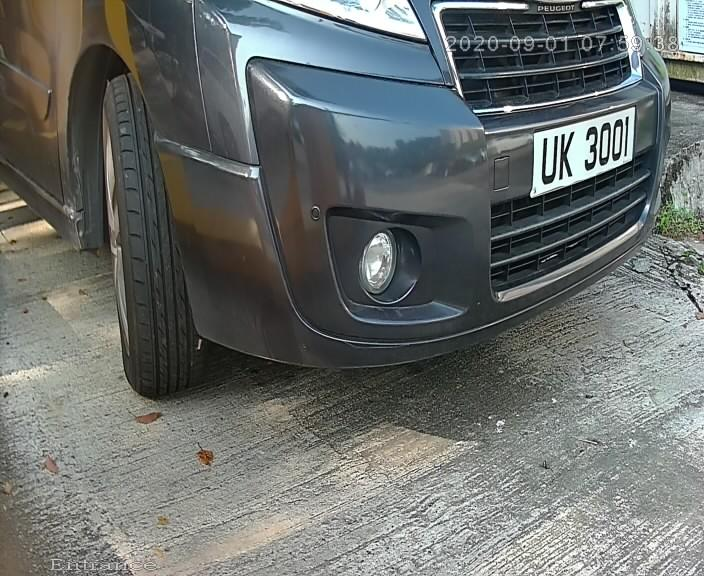Car: (67, 1, 704, 415)
License Plate: (519, 101, 635, 209)
